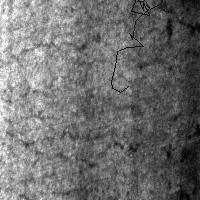crazing: (3, 30, 145, 167), (111, 0, 169, 92)
